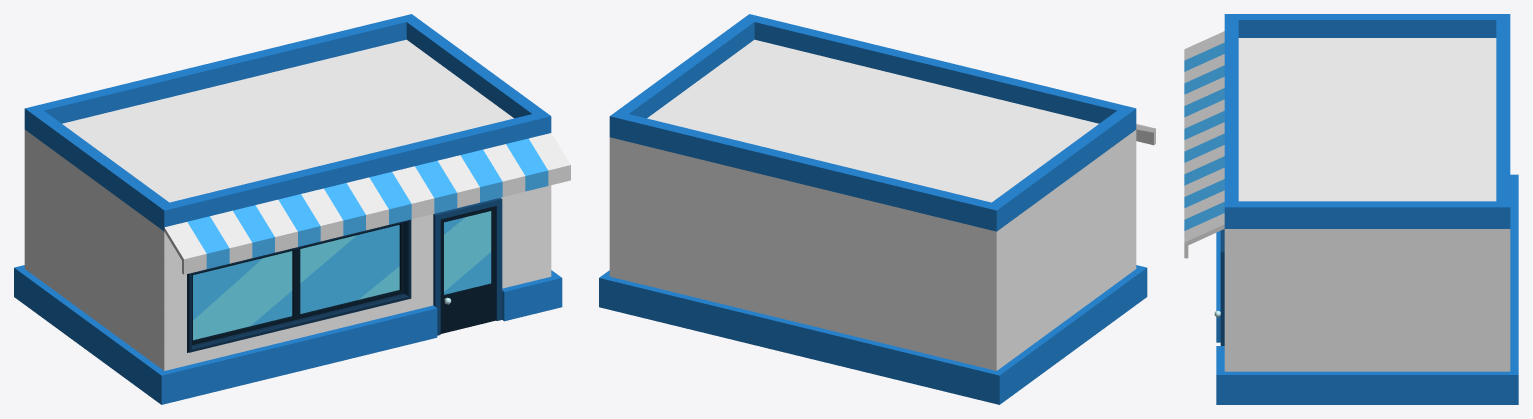
File: Env_CommercialBuilding_04.fbx
The picture shows the model from 3 angles, left to right: view 1: azimuth 30°, elevation 25°; view 2: azimuth 150°, elevation 25°; view 3: azimuth 270°, elevation 25°; orthographic projection. The views are drawn at different scales.
Parts seen in each view (by area): view 1: Env_CommercialBuilding_04; view 2: Env_CommercialBuilding_04; view 3: Env_CommercialBuilding_04.
Part boxes in pixels (box(x1,y1,x2,y2)): Env_CommercialBuilding_04: box(14, 14, 570, 404); Env_CommercialBuilding_04: box(599, 14, 1155, 404); Env_CommercialBuilding_04: box(1184, 14, 1518, 404).
Size of the model in its own units: 994 by 450 by 701.
Materials: 1 (1 with a texture image).
